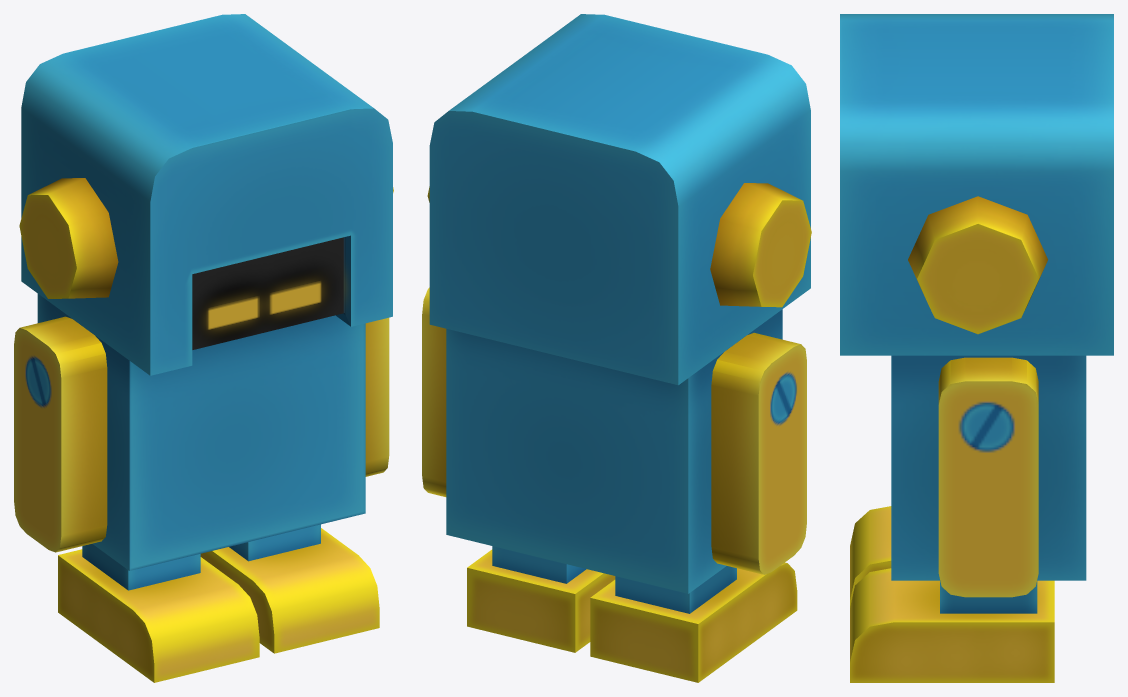
The model's file is robot.FBX.
3 renders of one model, left to right at view 1: azimuth 30°, elevation 25°; view 2: azimuth 150°, elevation 25°; view 3: azimuth 270°, elevation 25°, orthographic. The views are drawn at different scales.
Parts seen in each view (by area): view 1: robot; view 2: robot; view 3: robot.
Boxes of the visible parts, x1,y1,x2,y2 form: robot: [14, 14, 393, 682]; robot: [422, 14, 811, 682]; robot: [840, 14, 1113, 682].
Size of the model in its own units: 27.79 by 42.94 by 18.94.
